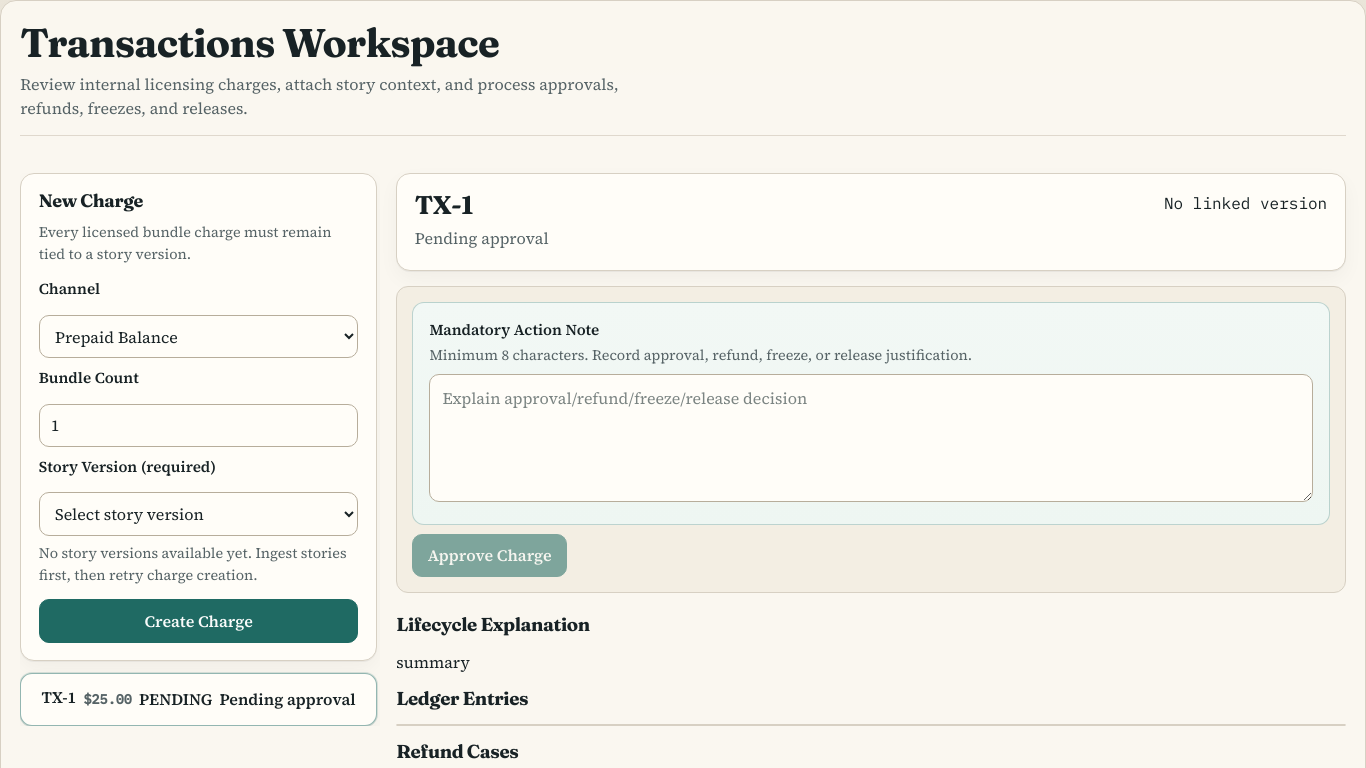
Test: Transactions workflow integration › enforces role-based action visibility and note requirement for approvals
Expected: the text "TX-1" is shown, [42, 685, 76, 709]
Expected: the button "Approve Charge" is disabled, [412, 534, 567, 577]
Type "approved note" into the text box with placeholder "Explain approval/refund/freeze/release decision".
click(871, 438); type("approved note")  # box [429, 374, 1313, 502]
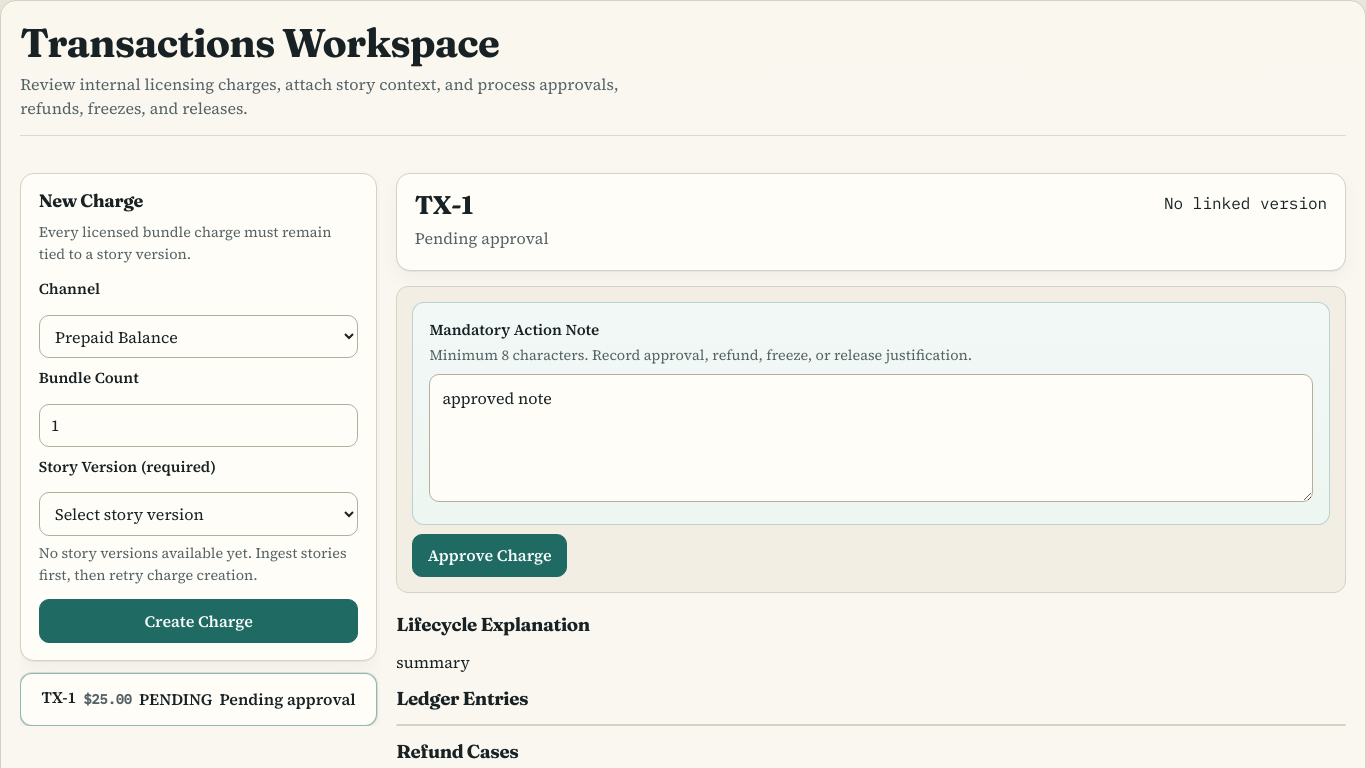
Now the button "Approve Charge" is enabled, box [412, 534, 567, 577]
